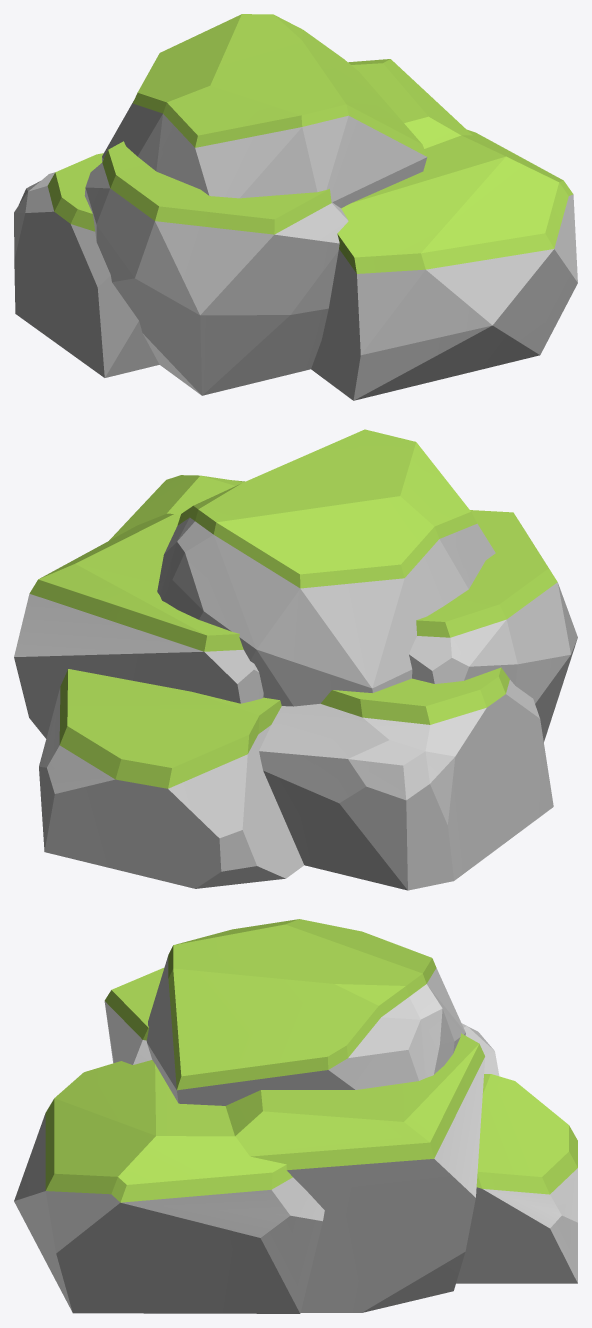
Rendered from Grey_Rock.obj.
3 views of the same model, one above another, from view 1: azimuth 30°, elevation 25°; view 2: azimuth 150°, elevation 25°; view 3: azimuth 270°, elevation 25° (orthographic). The views are drawn at different scales.
Parts seen in each view (by area): view 1: PP_Rock_Moss_Grown_11; view 2: PP_Rock_Moss_Grown_11; view 3: PP_Rock_Moss_Grown_11.
Boxes of the visible parts, x1,y1,x2,y2 form: PP_Rock_Moss_Grown_11: (14, 14, 577, 400); PP_Rock_Moss_Grown_11: (14, 429, 577, 890); PP_Rock_Moss_Grown_11: (14, 919, 577, 1313).
Size of the model in its own units: 4.08 by 2.43 by 4.6.
1 material, 1 textured.
